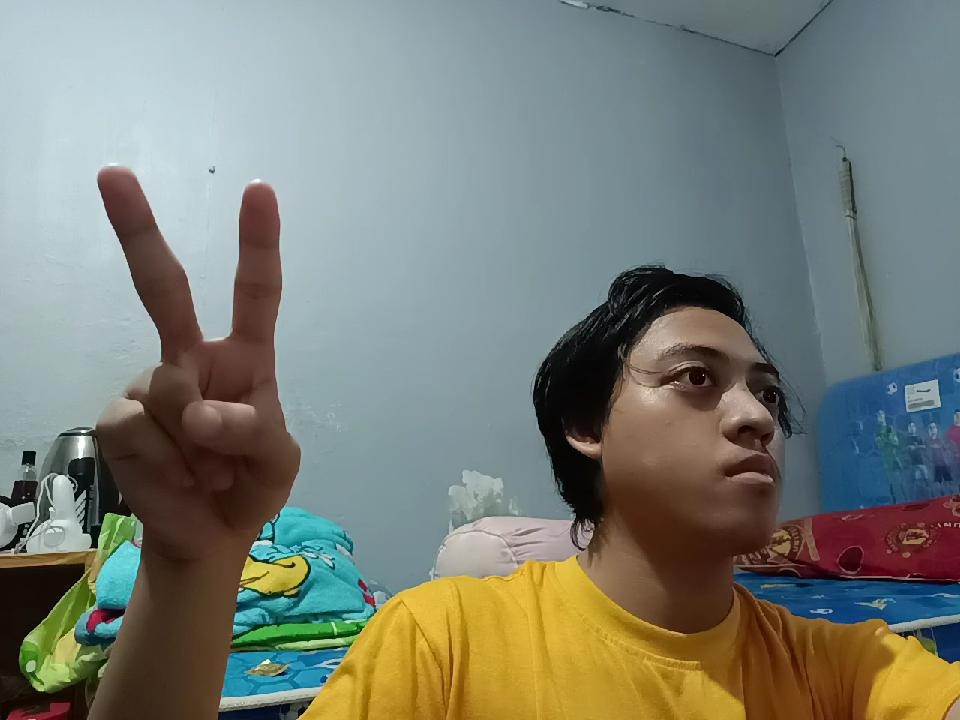scissors: (87, 151, 314, 571)
